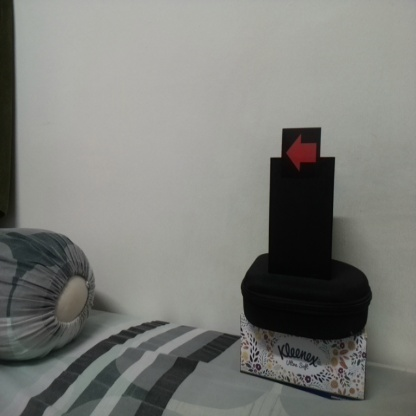id_4: (282, 131, 320, 178)
